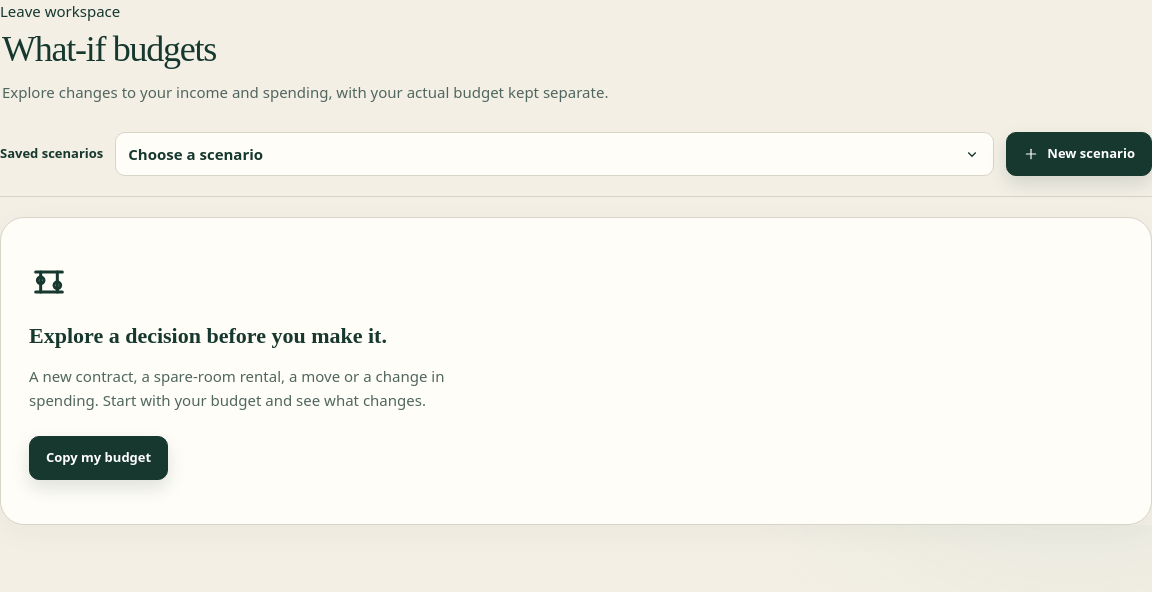
workspace integration › offers conflict recovery without discarding the local draft
The image size is (1152, 592).
Press ArrowDown in the dropdown named "Saved scenarios", box [115,132,994,176]
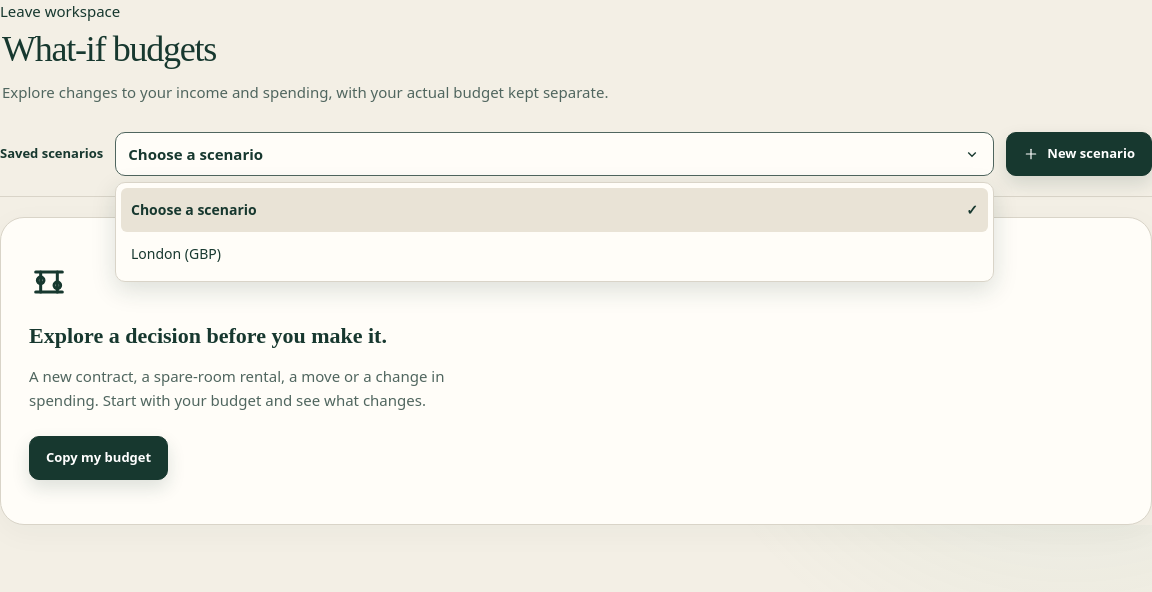
Press Enter in the option "London (GBP)", box [131,244,221,263]
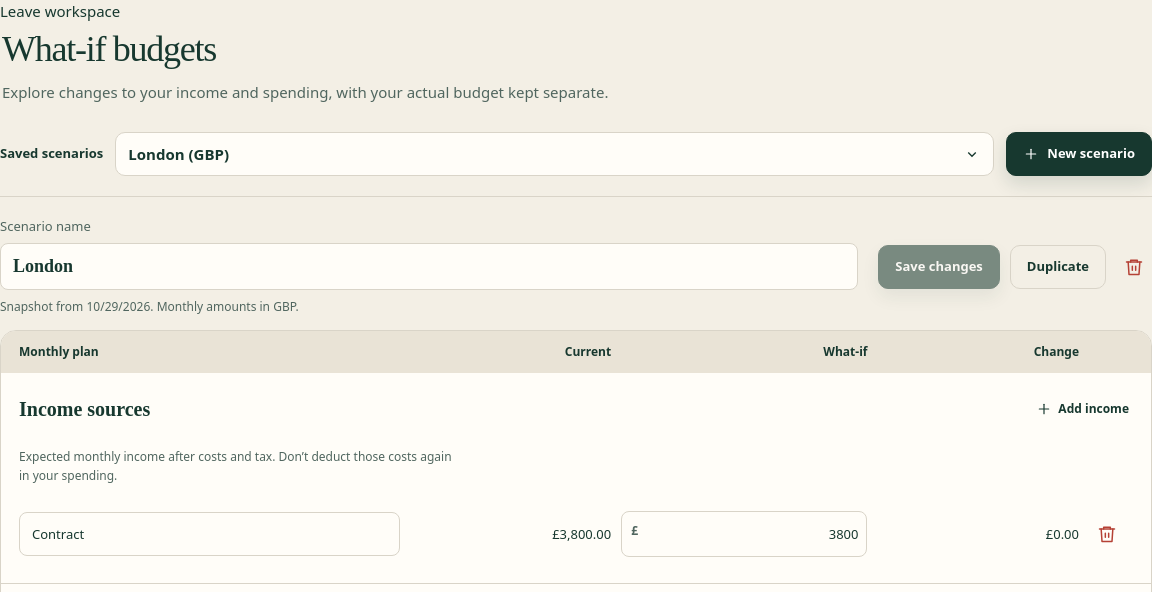
Replace the text in the field named "Contract monthly amount" with "5000" at (752, 534), box [638,512,866,556]
Wait 6000 ms
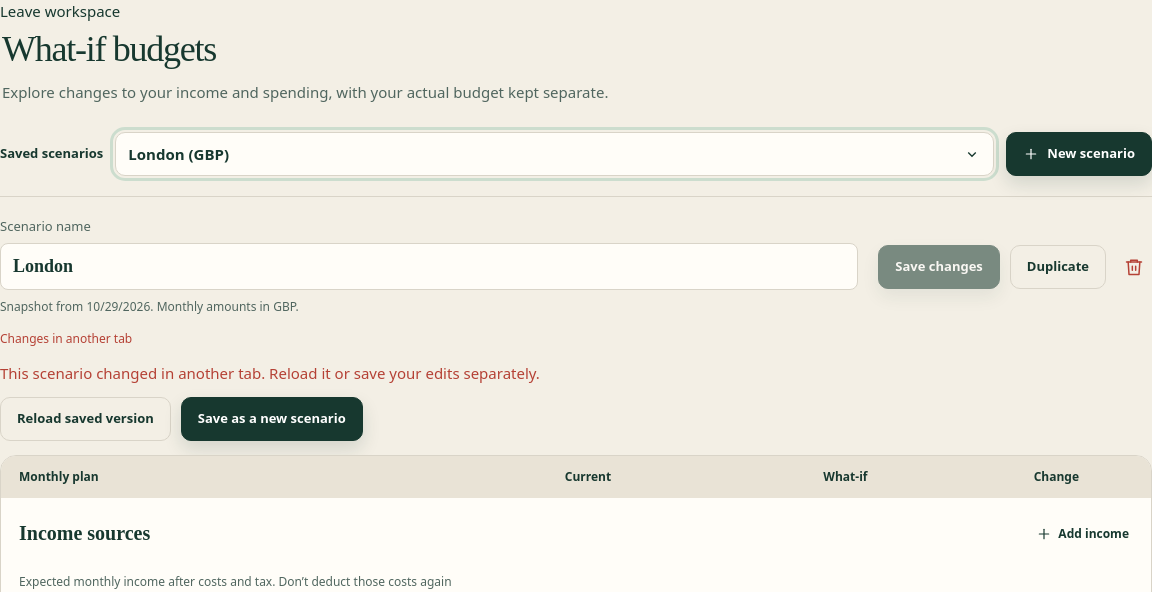
Expected: the button "Reload saved version" is shown, [0,397,171,441]
Expected: the button "Save as a new scenario" is shown, [181,397,363,441]
